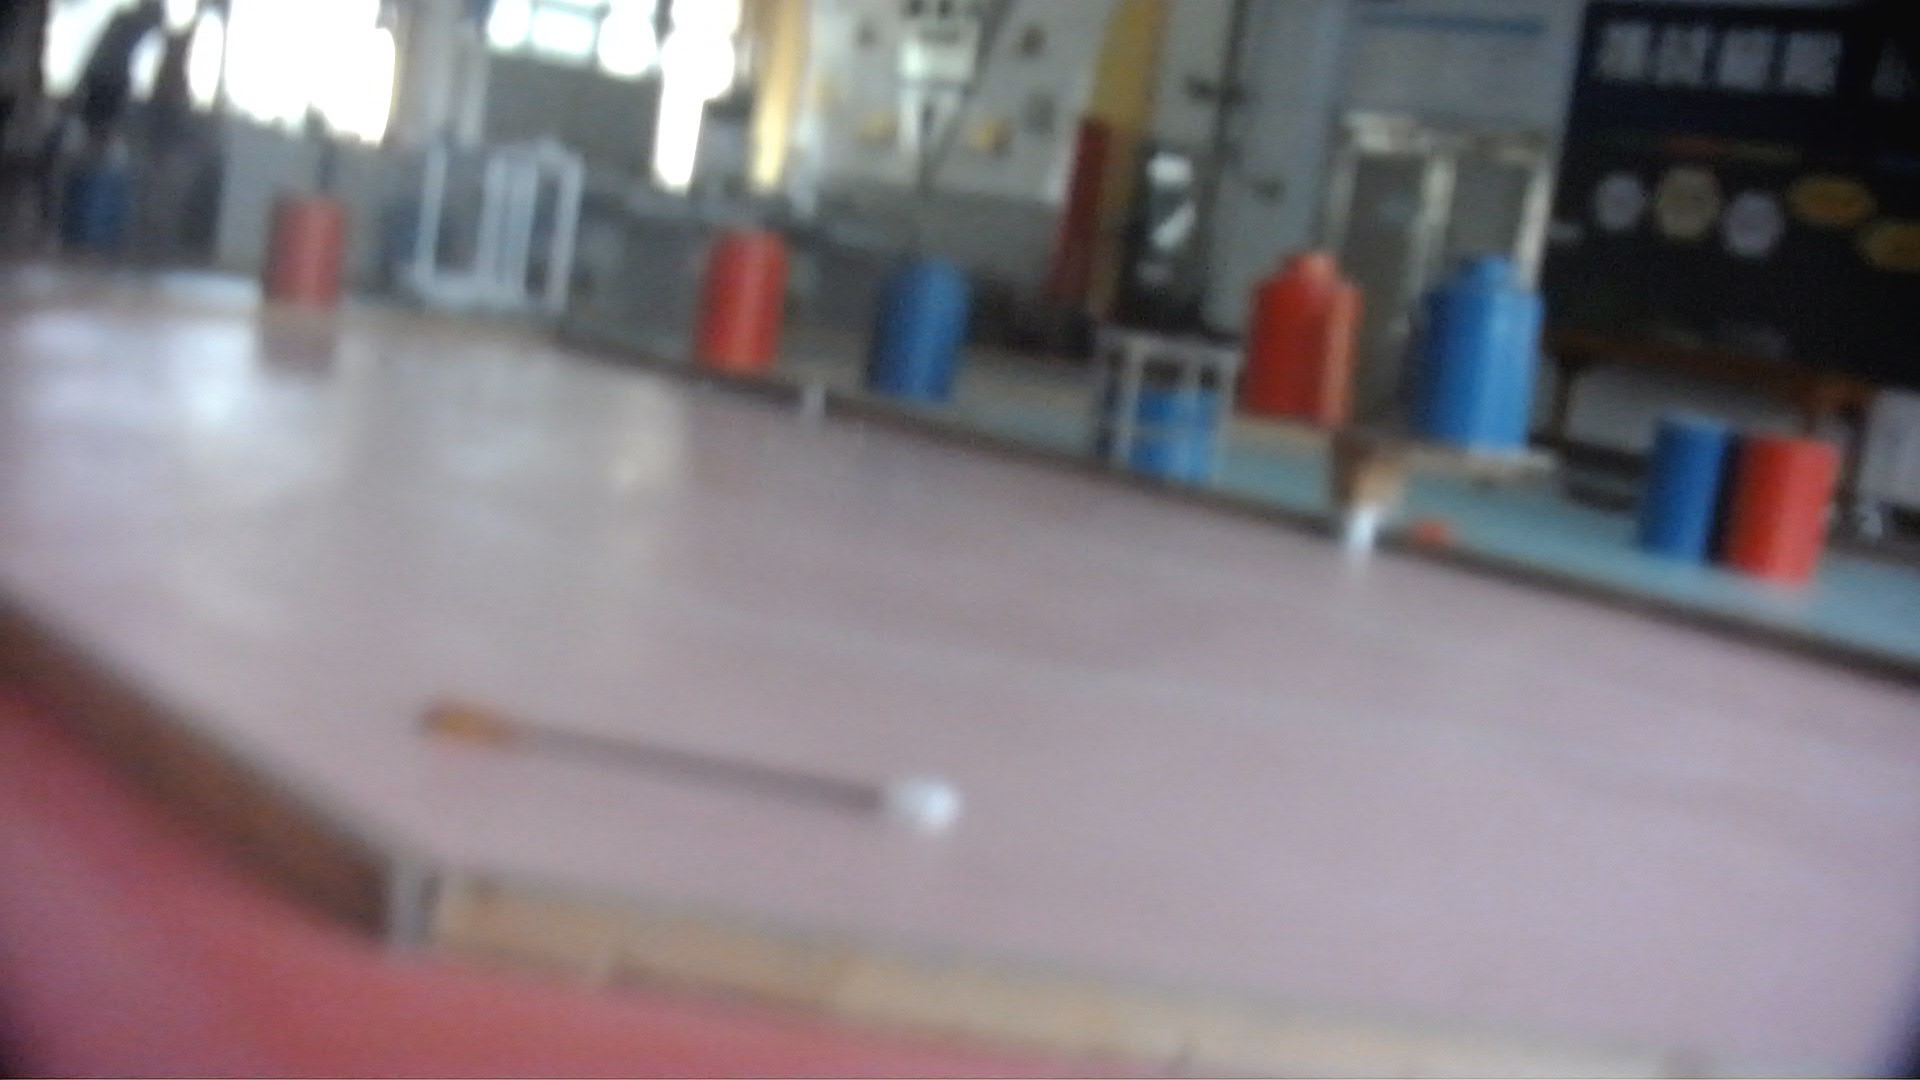arrow: (414, 694, 965, 836)
arrowFront: (870, 777, 968, 839)
